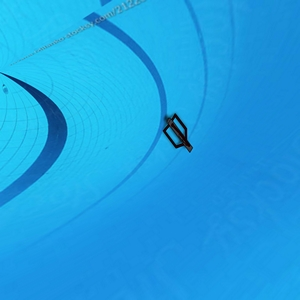submarine: (157, 112, 200, 152)
